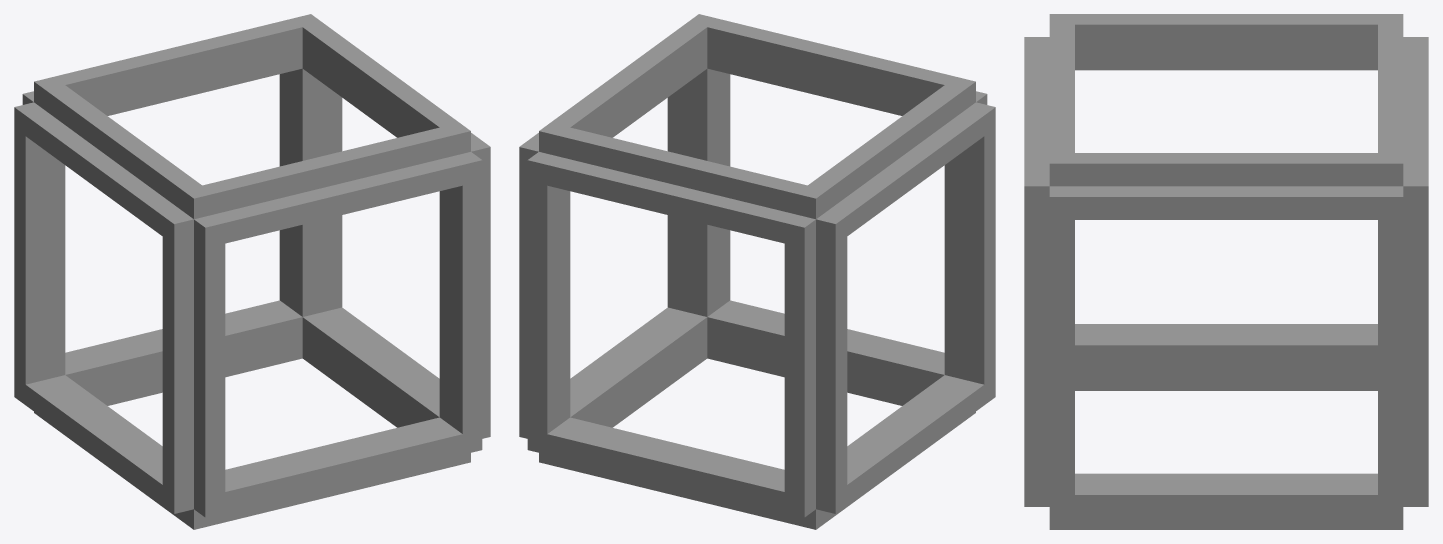
Rendered from vent_6.fbx.
The picture shows the model from 3 angles, left to right: view 1: azimuth 30°, elevation 25°; view 2: azimuth 150°, elevation 25°; view 3: azimuth 270°, elevation 25°; orthographic projection. The views are drawn at different scales.
Visible parts, largest first — view 1: cube_13, cube, cube_11, cube_19, cube_21, cube_7, cube_5, cube_9, cube_10, cube_14, cube_3, cube_17 (+11 smaller); view 2: cube_14, cube_3, cube_12, cube_22, cube_18, cube_7, cube_6, cube_10, cube_9, cube_13, cube, cube_17 (+11 smaller); view 3: cube_17, cube_7, cube_1, cube_16, cube_15, cube_8, cube, cube_3, cube_2, cube_4, cube_23, cube_20 (+6 smaller).
Boxes of the visible parts, x1,y1,x2,y2 form: cube_13: (54,19,302,115); cube: (439,181,482,433); cube_11: (194,152,482,248); cube_19: (194,426,482,517); cube_21: (65,309,302,405); cube_7: (14,375,193,513); cube_5: (194,240,225,496); cube_9: (162,237,193,493); cube_10: (14,128,45,384); cube_14: (202,127,451,214); cube_3: (279,68,322,316); cube_17: (302,307,490,438); cube_14: (707,19,955,115); cube_3: (527,181,570,433); cube_12: (527,152,815,248); cube_22: (527,426,815,517); cube_18: (707,309,944,405); cube_7: (816,375,995,513); cube_6: (784,240,815,496); cube_10: (816,237,847,493); cube_9: (964,128,995,384); cube_13: (558,127,807,214); cube: (687,68,730,316); cube_17: (519,307,707,438); cube_17: (1049,473,1403,517); cube_7: (1075,324,1377,368); cube_1: (1049,186,1403,219); cube_16: (1049,153,1403,186); cube_15: (1049,14,1403,47); cube_8: (1075,47,1377,70); cube: (1024,209,1049,484); cube_3: (1403,209,1428,484); cube_2: (1049,220,1074,494); cube_4: (1378,220,1403,494); cube_23: (1075,368,1377,390); cube_20: (1049,517,1403,529).
Size of the model in its own units: 100 by 100 by 100.
1 material, 1 textured.
